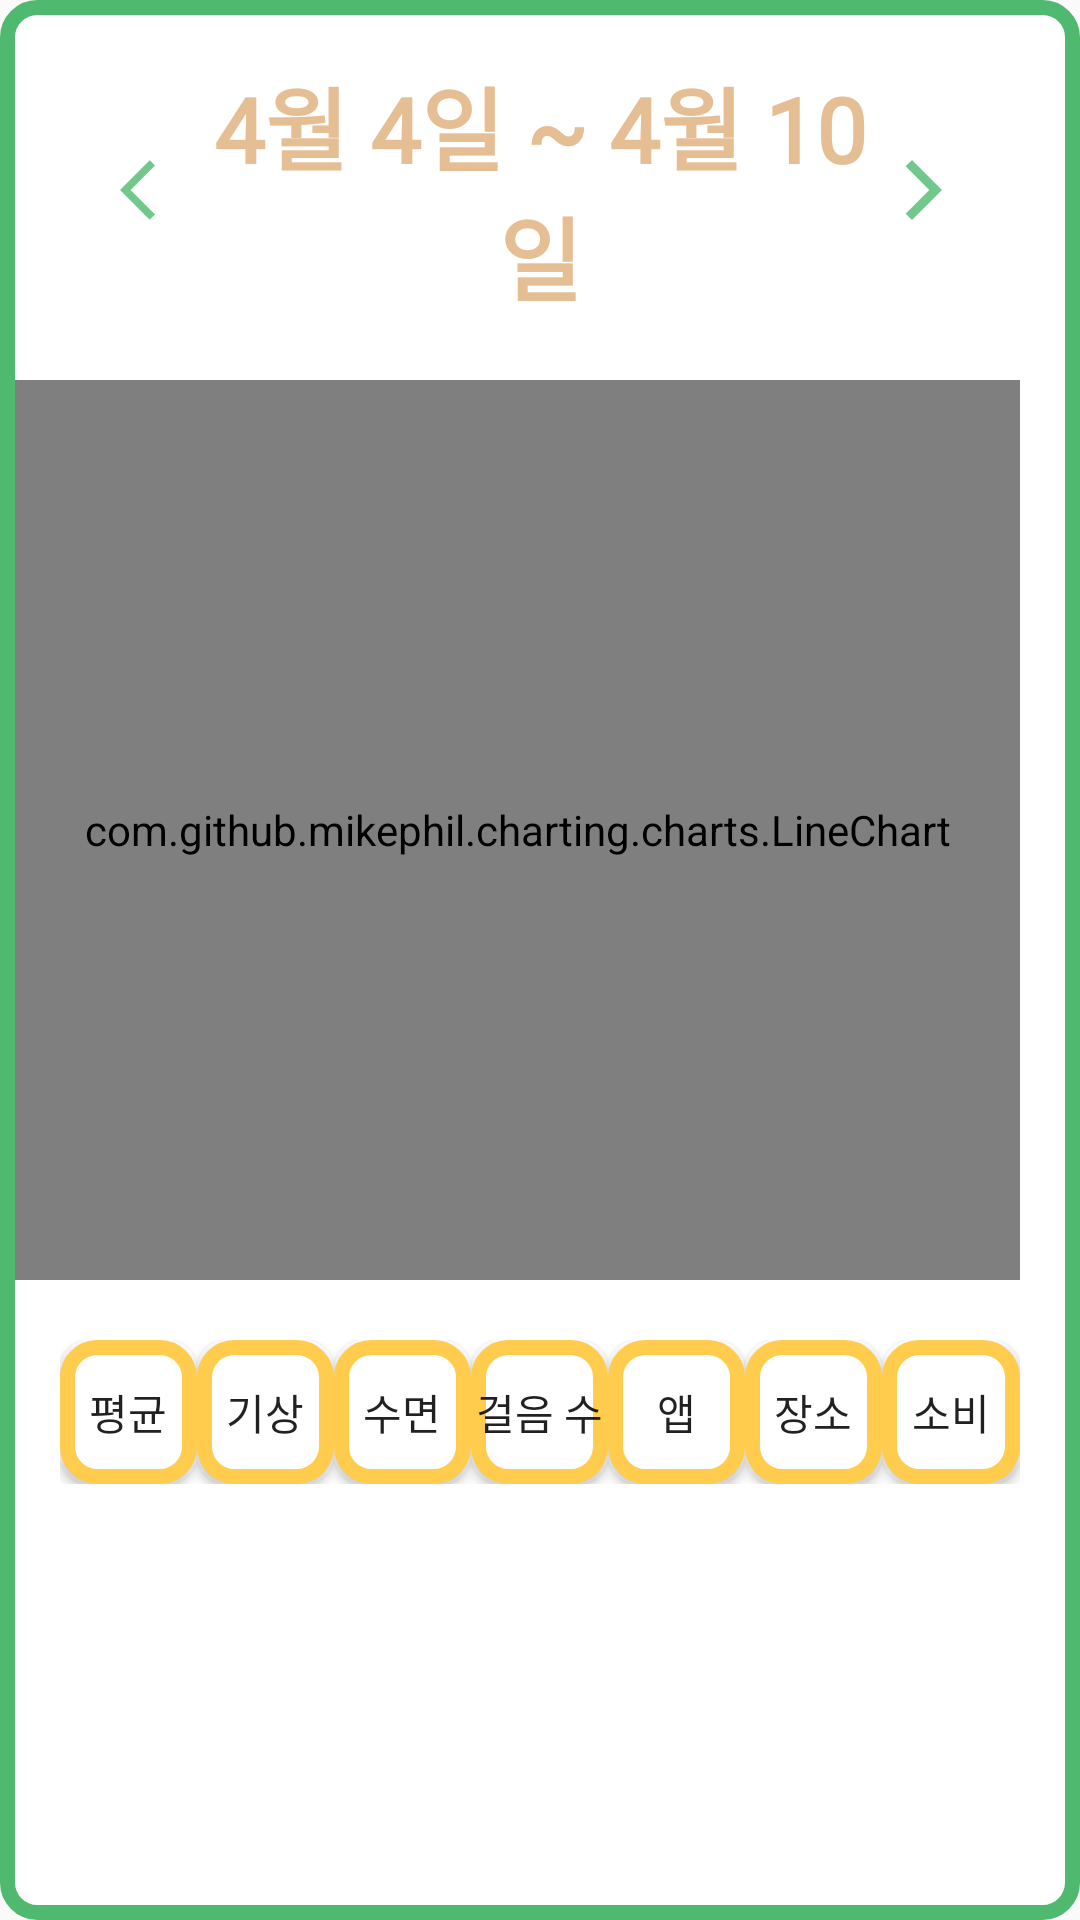

Screen size 1080 × 1920. Icon name, then its center in pixels as [x,y]:
arrow back: [137,190]
arrow forward: [924,190]
